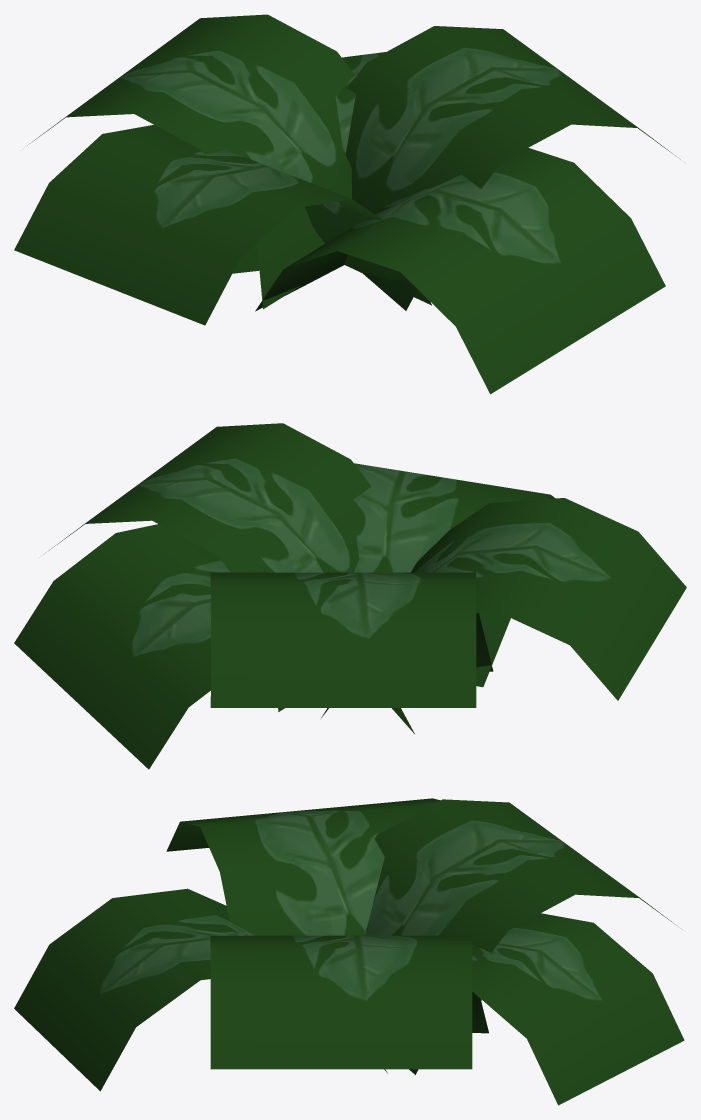
Rendered from Small_Plant.FBX.
3 renders of one model, top to bottom at view 1: azimuth 30°, elevation 25°; view 2: azimuth 150°, elevation 25°; view 3: azimuth 270°, elevation 25°, orthographic. The views are drawn at different scales.
Parts seen in each view (by area): view 1: Plane111; view 2: Plane111; view 3: Plane111.
Part boxes in pixels (bbox=[...]): Plane111: bbox=[14, 14, 680, 394]; Plane111: bbox=[14, 423, 686, 769]; Plane111: bbox=[14, 798, 684, 1105].
Bounding box in the file's own units: 111 × 32.61 × 118.
Materials: 1 (1 with a texture image).
